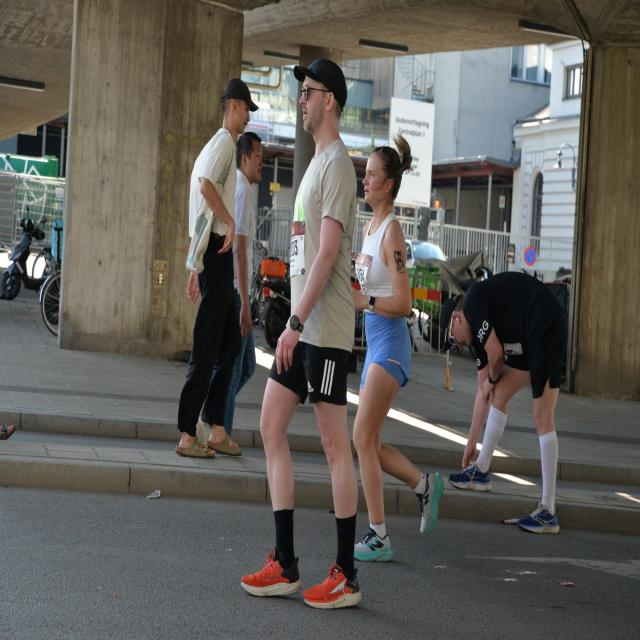runner-detect: (238, 47, 369, 614), (353, 127, 460, 584)
